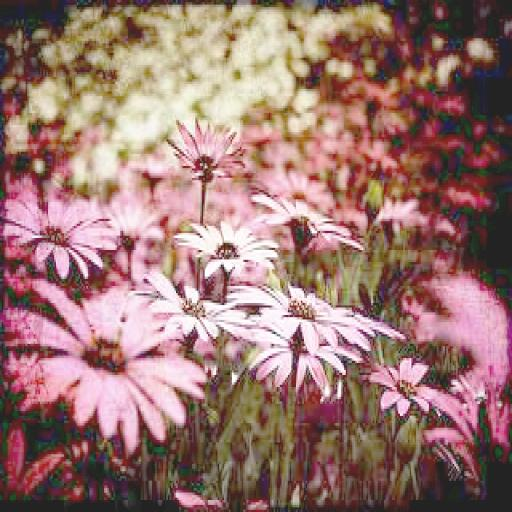daisy: (19, 282, 197, 442), (229, 291, 384, 372), (5, 190, 118, 269), (178, 219, 274, 279), (262, 190, 348, 252), (178, 115, 243, 173), (384, 356, 426, 411)
